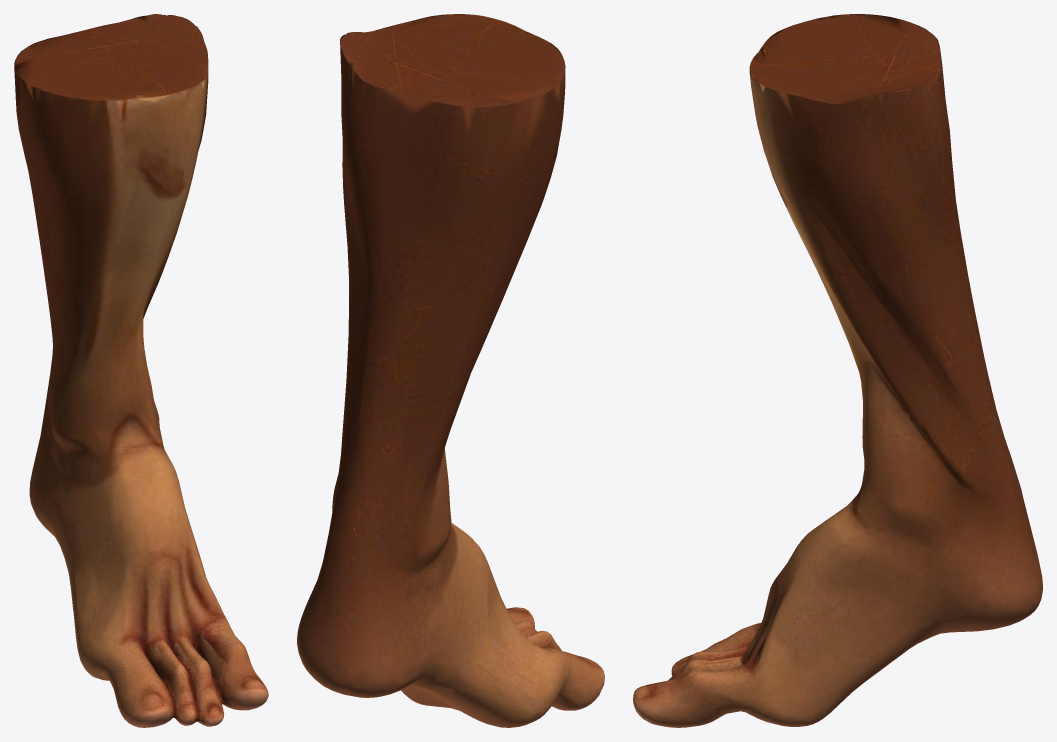
File: shin.glb
The picture shows the model from 3 angles, left to right: view 1: azimuth 30°, elevation 25°; view 2: azimuth 150°, elevation 25°; view 3: azimuth 270°, elevation 25°; orthographic projection. The views are drawn at different scales.
Parts seen in each view (by area): view 1: Mesh_0; view 2: Mesh_0; view 3: Mesh_0.
Part boxes in pixels (left/top/right/bottom): Mesh_0: left=14, top=14, right=268, bottom=727; Mesh_0: left=297, top=14, right=604, bottom=727; Mesh_0: left=633, top=14, right=1042, bottom=727.
Size of the model in its own units: 0.572 by 1.9 by 1.06.
1 material, 1 textured.
